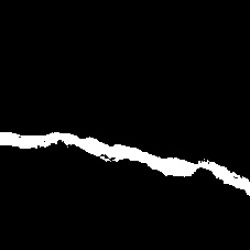crack: (2, 130, 241, 191)
